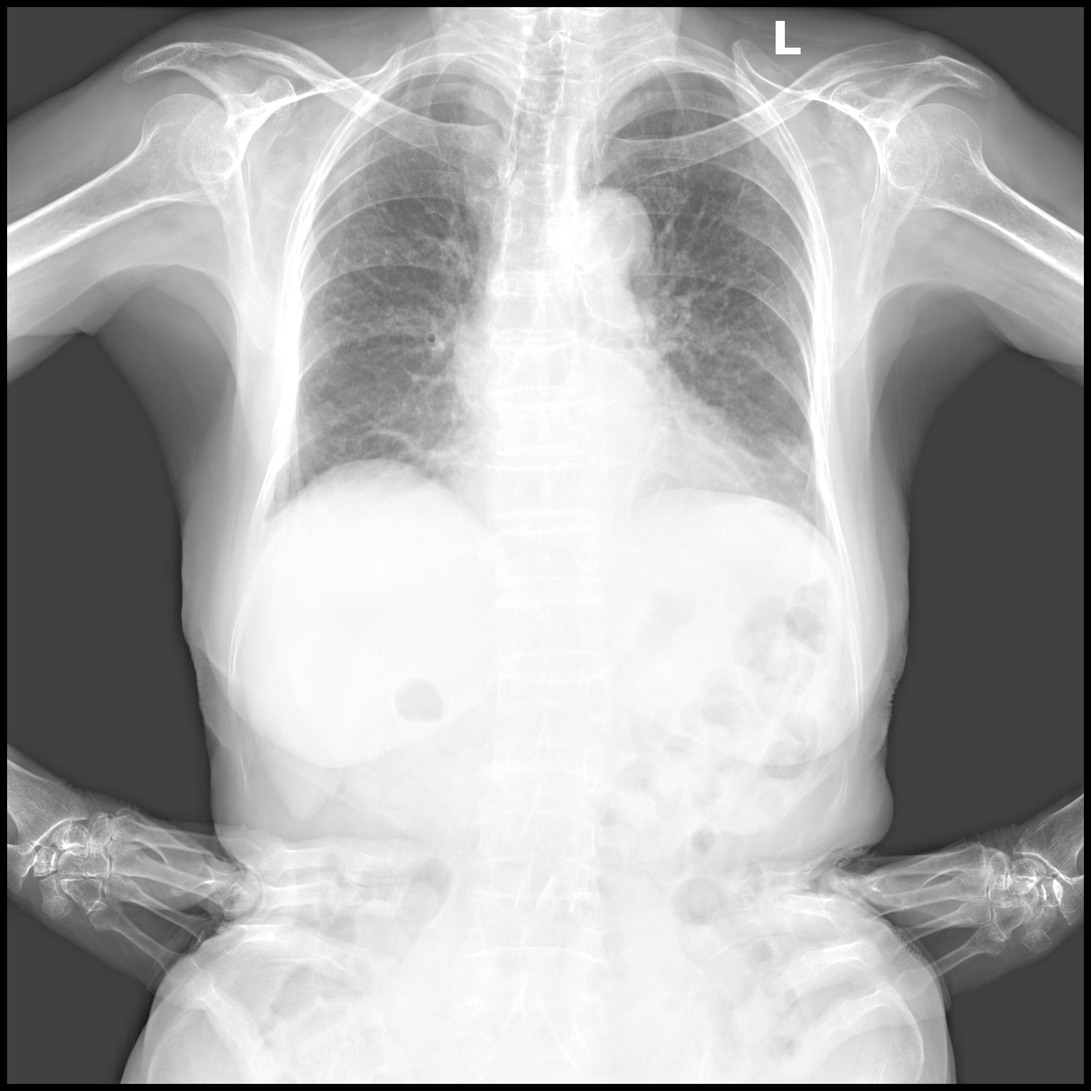Aortic enlargement: (555, 186, 656, 282)
Cardiomegaly: (436, 400, 765, 557)
Pulmonary fibrosis: (340, 423, 487, 472)
